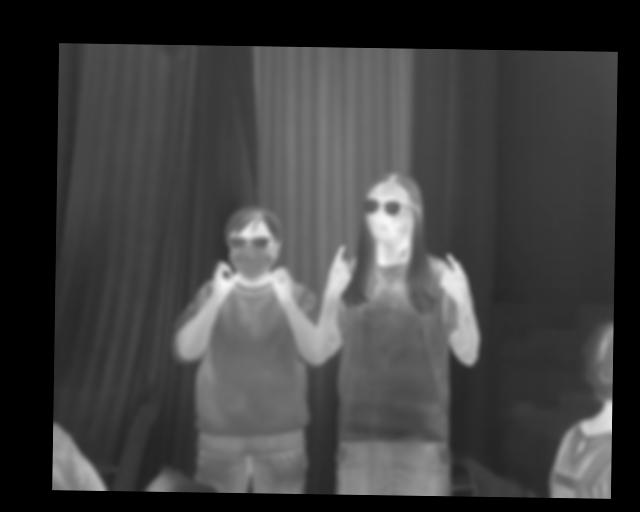face: (224, 205, 282, 280), (362, 172, 419, 243)
